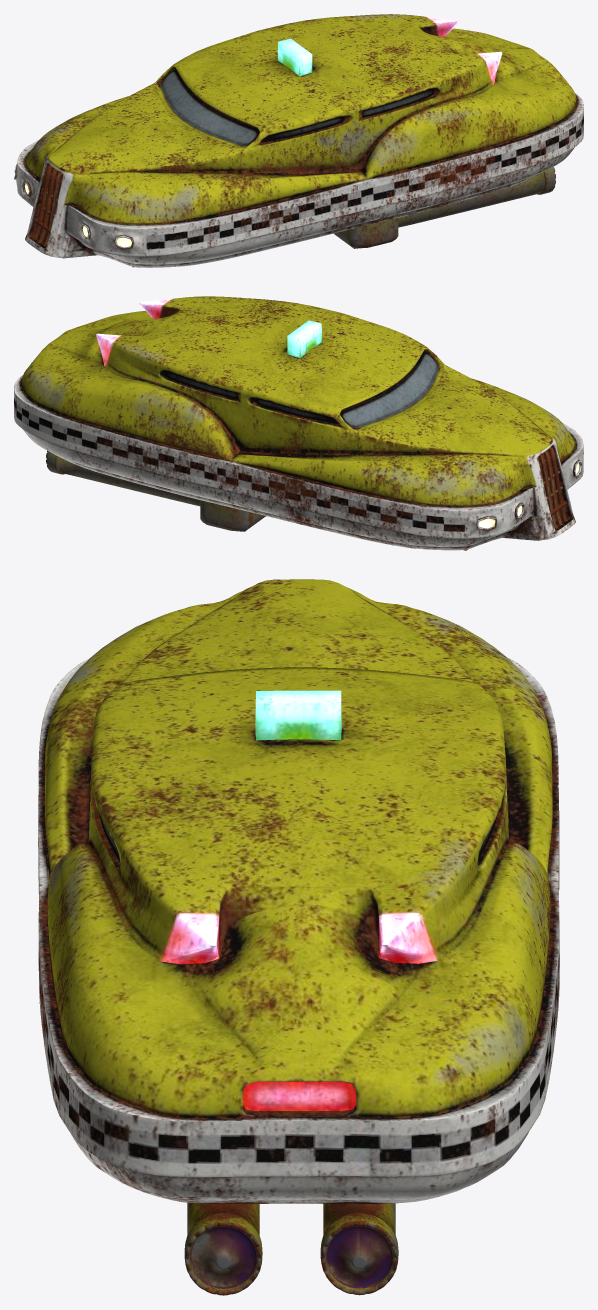
The model's file is taxi.glb.
3 renders of one model, top to bottom at view 1: azimuth 30°, elevation 25°; view 2: azimuth 150°, elevation 25°; view 3: azimuth 270°, elevation 25°, orthographic. The views are drawn at different scales.
Parts seen in each view (by area): view 1: Object_2, Object_3; view 2: Object_2, Object_3; view 3: Object_2, Object_3.
Boxes of the visible parts, box(x1,y1,x2,y2) form: Object_2: box(14, 14, 583, 267); Object_3: box(33, 165, 555, 267); Object_2: box(14, 296, 583, 550); Object_3: box(46, 447, 567, 550); Object_2: box(38, 579, 559, 1204); Object_3: box(184, 1202, 398, 1295).
Bounding box in the file's own units: 5.92 × 2.04 × 2.59.
2 materials, 2 textured.
